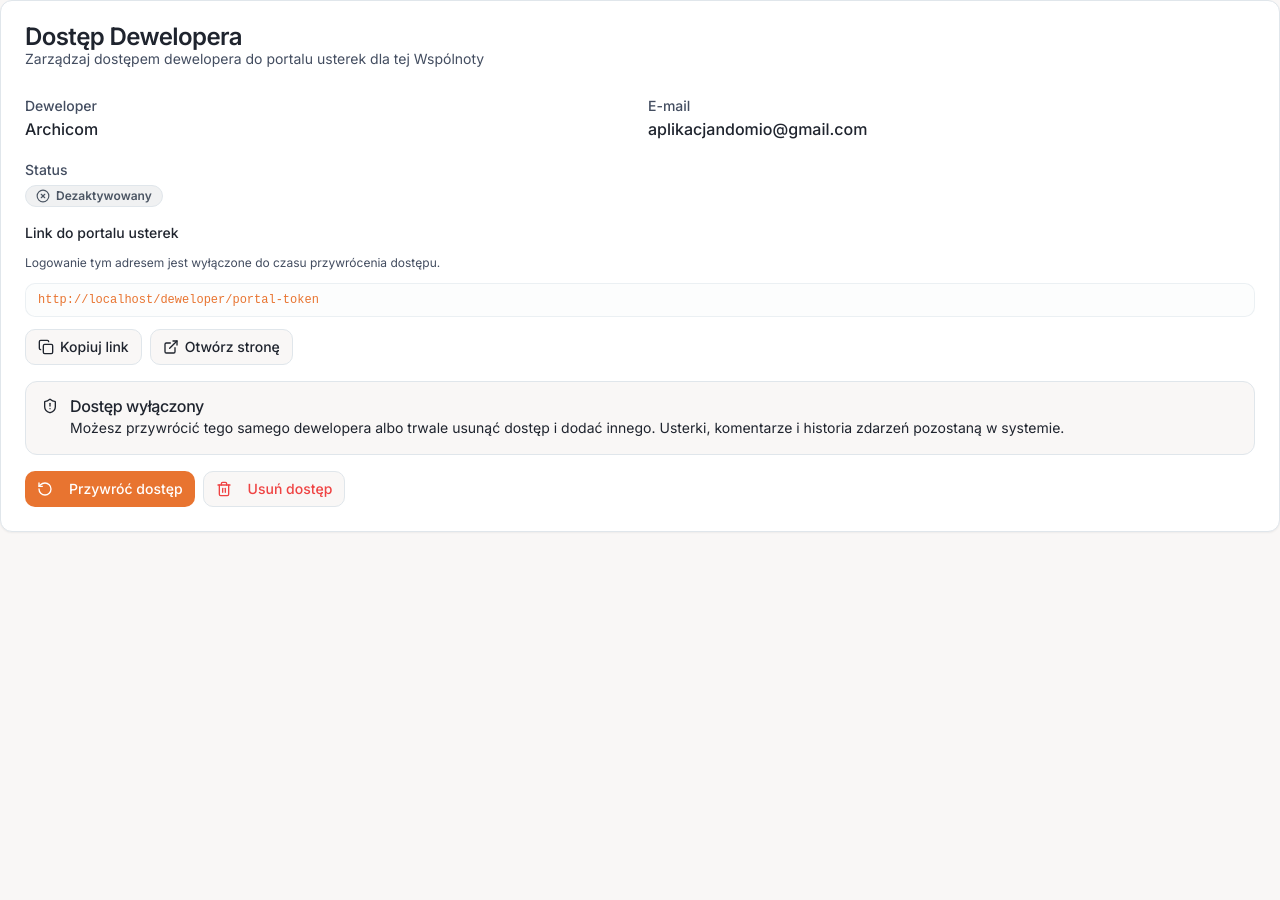
Test case: DeveloperAccessCard › confirms that warranty issues stay when access is removed
What coordinates should you click on to do the following:
click the button "Usuń dostęp"
I would click on:
 (274, 489)
Its box is [203,471,345,507].
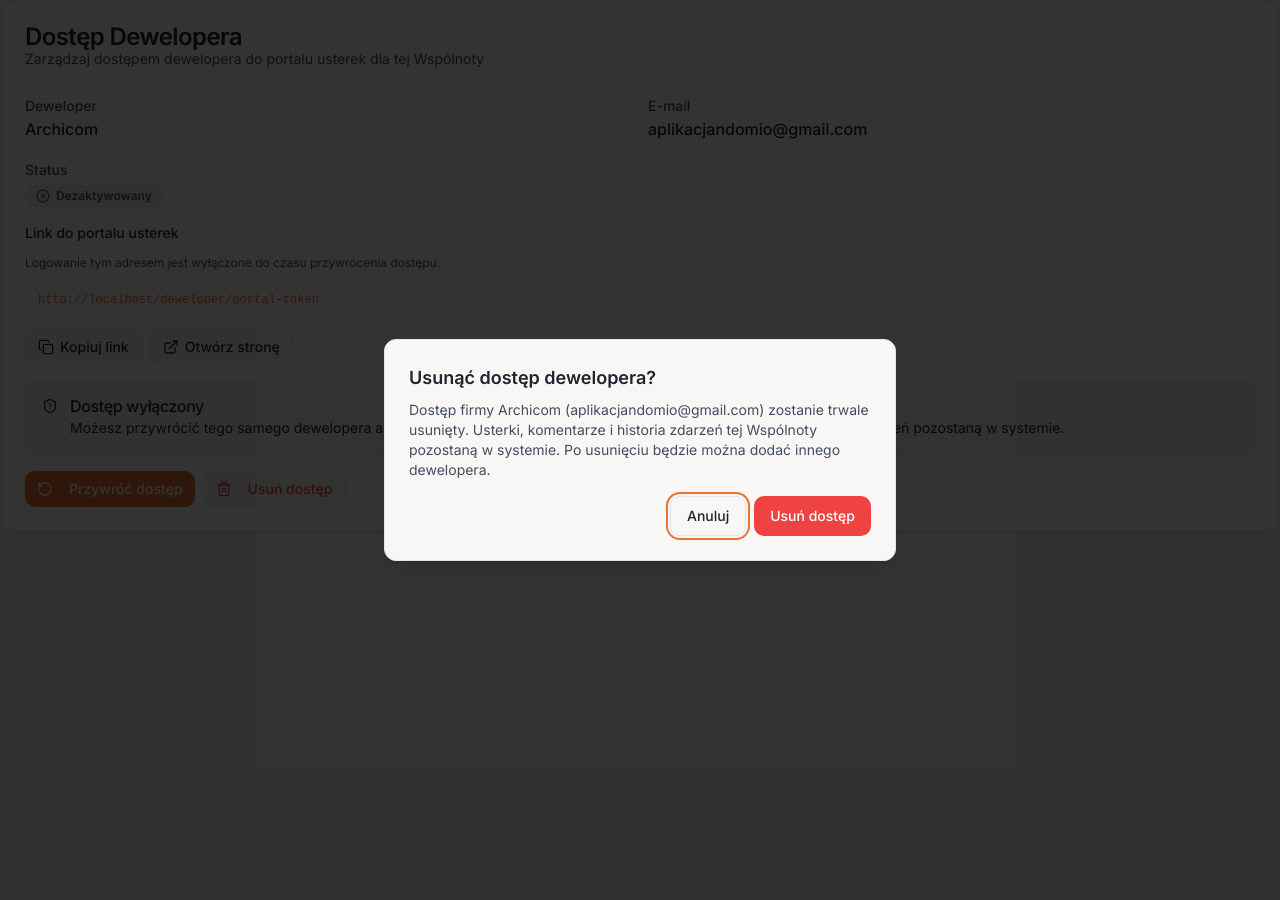
Expected: the text "Usterki, komentarze i historia zdarzeń tej Wspólnoty pozostaną w systemie" is shown, [409,401,869,478]
